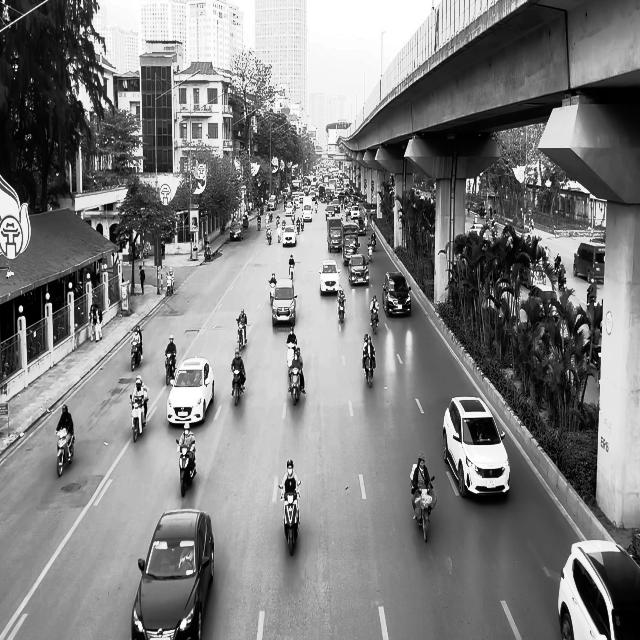car: (131, 508, 214, 640), (557, 539, 640, 639), (442, 396, 511, 498), (167, 356, 214, 426), (382, 271, 411, 316), (271, 278, 297, 326), (319, 259, 340, 294), (348, 253, 369, 286), (282, 224, 296, 247), (230, 222, 243, 240)
motorbike: (411, 475, 436, 542), (279, 484, 300, 556), (176, 439, 197, 497), (130, 387, 148, 442), (56, 427, 74, 477), (288, 364, 302, 406), (230, 368, 245, 406), (362, 348, 376, 388), (130, 330, 143, 370), (236, 316, 247, 351), (164, 353, 176, 385), (337, 295, 345, 322), (370, 308, 378, 334), (269, 280, 276, 304)
